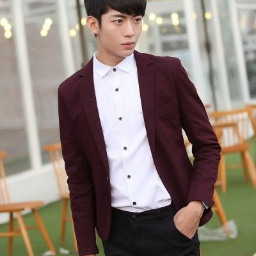face: (82, 1, 147, 60)
